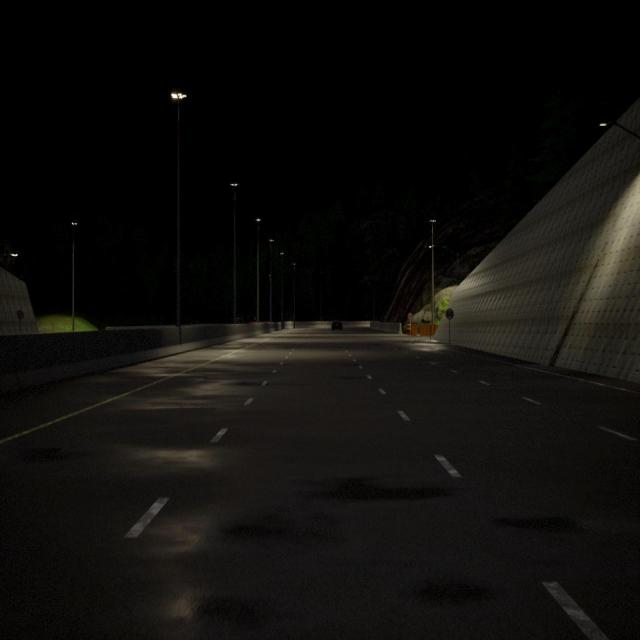Traffic_Signs: (445, 308, 454, 320), (16, 310, 24, 319), (408, 313, 412, 319)
Vehicle: (332, 319, 342, 331)
